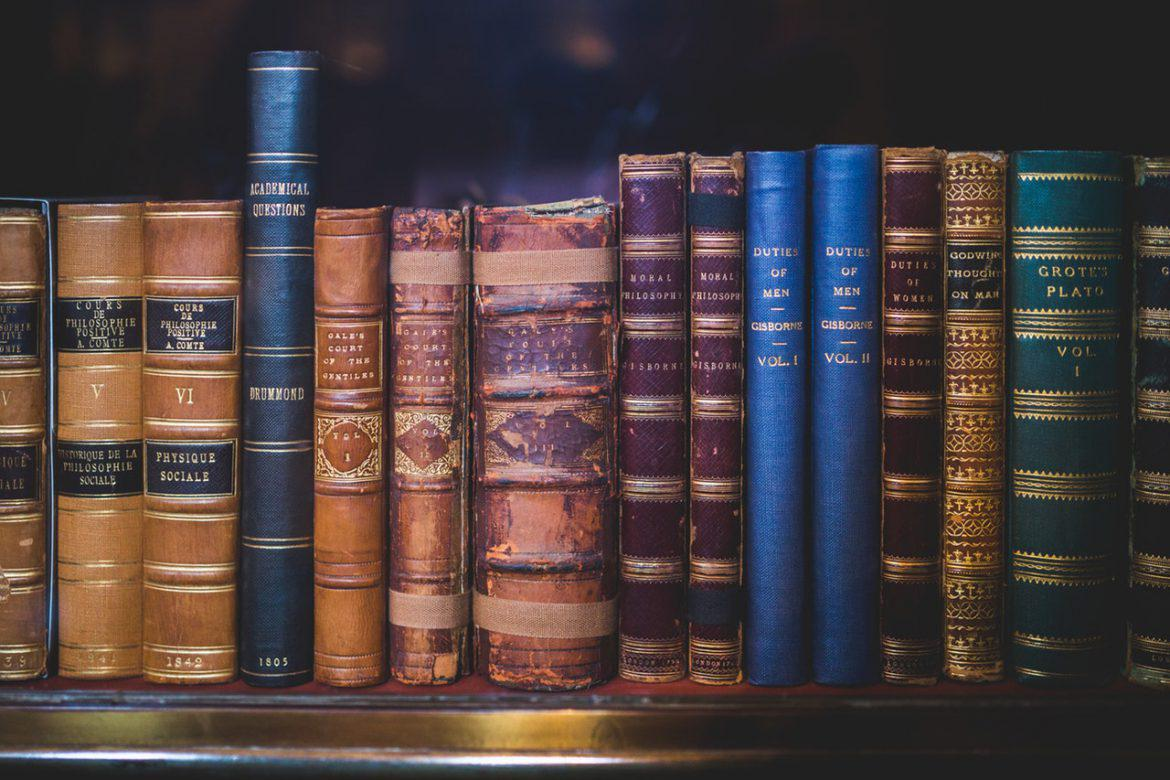book: (1016, 164, 1116, 678), (489, 227, 602, 677), (155, 214, 224, 671), (820, 155, 873, 678), (320, 222, 379, 682), (70, 211, 128, 673), (399, 224, 455, 677), (628, 170, 678, 673), (952, 165, 1000, 681), (265, 64, 297, 677), (699, 172, 737, 679), (766, 168, 802, 663), (898, 154, 928, 681)
